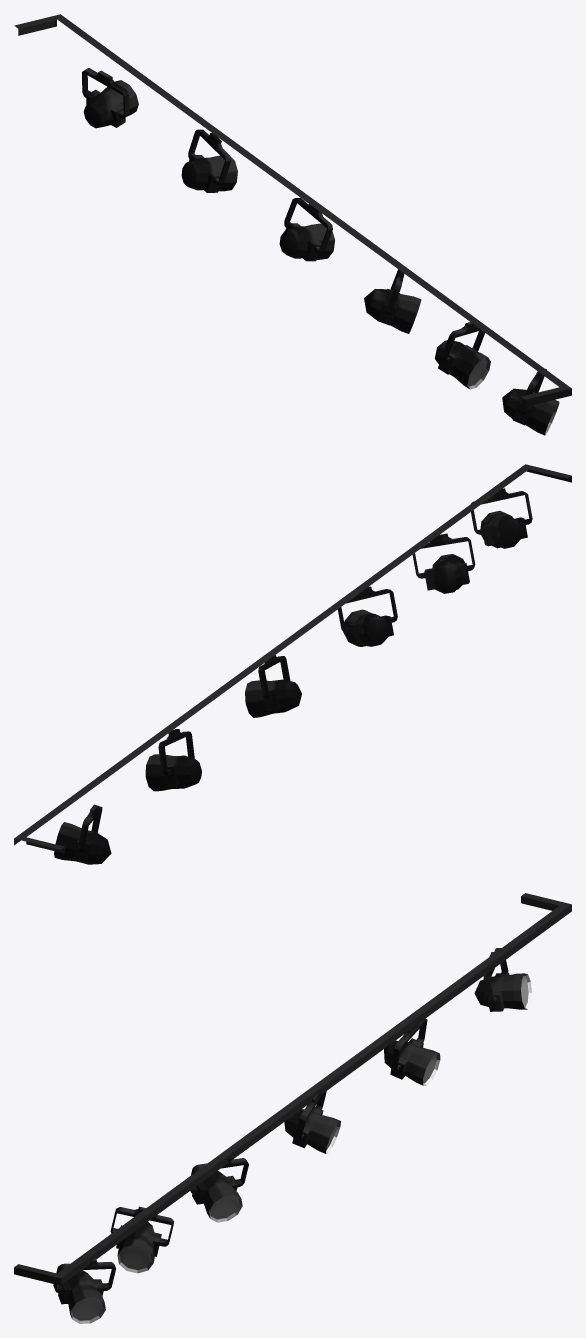
Rendered from Tx_Props_SpotLight_MusicDept.fbx.
3 renders of one model, top to bottom at view 1: azimuth 30°, elevation 25°; view 2: azimuth 150°, elevation 25°; view 3: azimuth 330°, elevation 25°, orthographic.
Parts seen in each view (by area): view 1: Tx_Props_SpotLight_MusicDept; view 2: Tx_Props_SpotLight_MusicDept; view 3: Tx_Props_SpotLight_MusicDept.
Boxes of the visible parts, <box> form: Tx_Props_SpotLight_MusicDept: <box>14,14,571,435</box>; Tx_Props_SpotLight_MusicDept: <box>14,464,571,864</box>; Tx_Props_SpotLight_MusicDept: <box>14,893,571,1323</box>.
Size of the model in its own units: 3.26 by 3.29 by 45.49.
